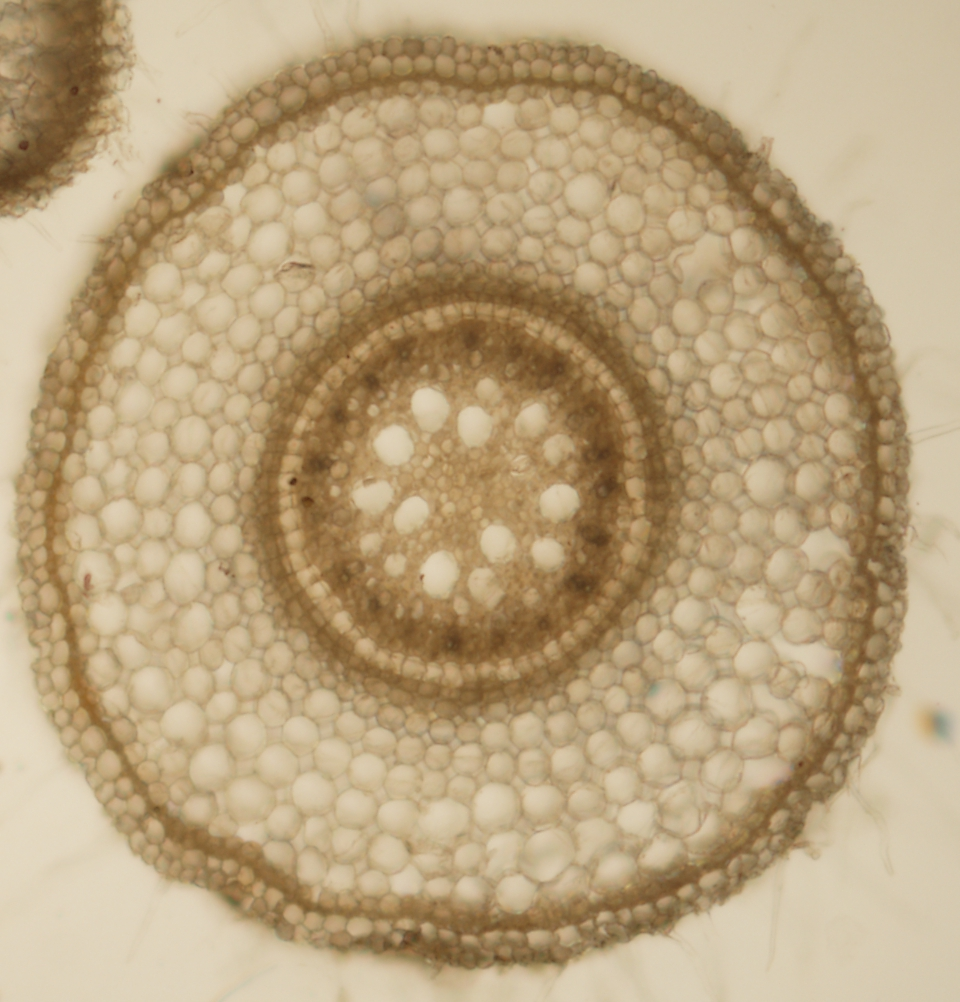lm: (419, 550, 460, 600), (411, 386, 450, 433), (372, 424, 415, 466), (351, 475, 395, 516), (539, 484, 581, 524), (468, 567, 506, 609), (457, 406, 493, 448), (393, 495, 429, 536), (480, 525, 517, 564), (514, 403, 549, 438), (531, 538, 565, 572), (542, 434, 575, 466)
